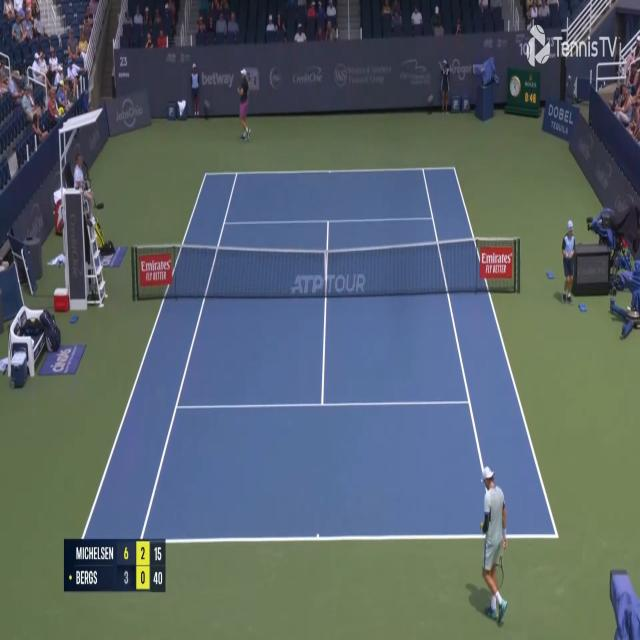tennis-player: (473, 465, 511, 625), (236, 67, 254, 142)
